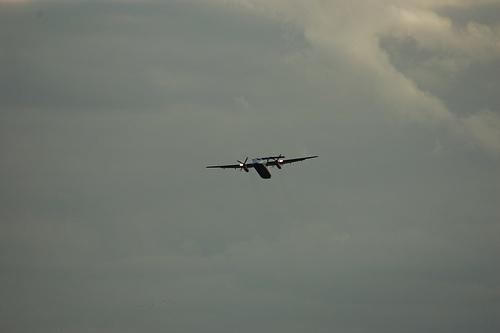aeroplane: (206, 153, 320, 183)
